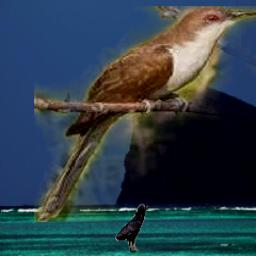Crow: (114, 204, 149, 254)
Cuckoo: (34, 7, 256, 223)
